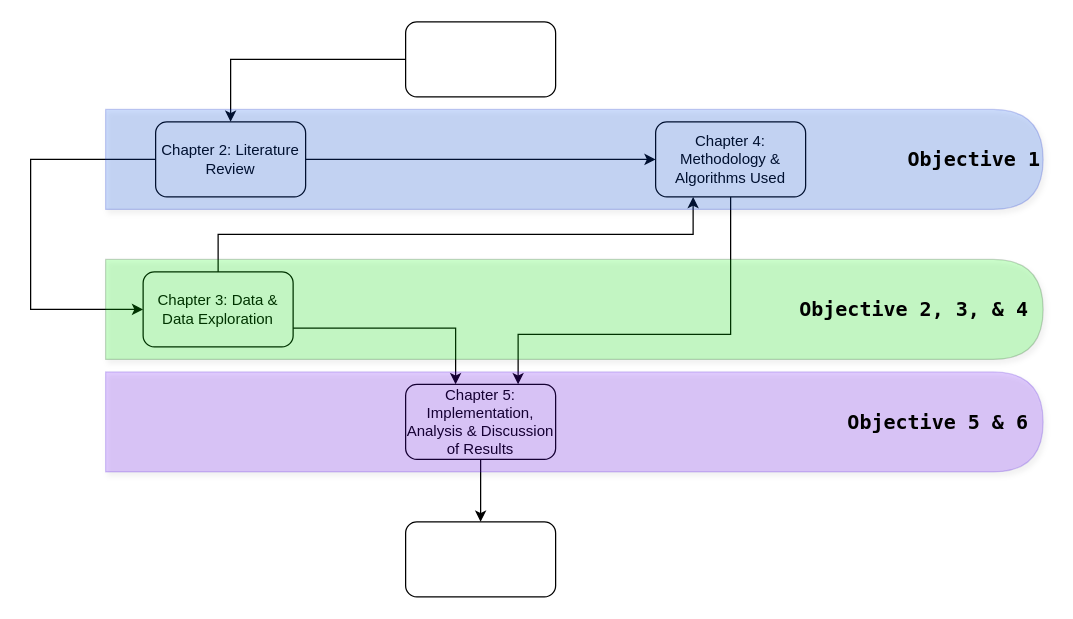
Image size: 1073x619. Some labels were removed from this diagram. Here are the shapes that lost their labels. From the top down, the centre of each, then its label:
pixel 480 59: Chapter 1: Introduction
pixel 480 559: Chapter 6: Conclusion
